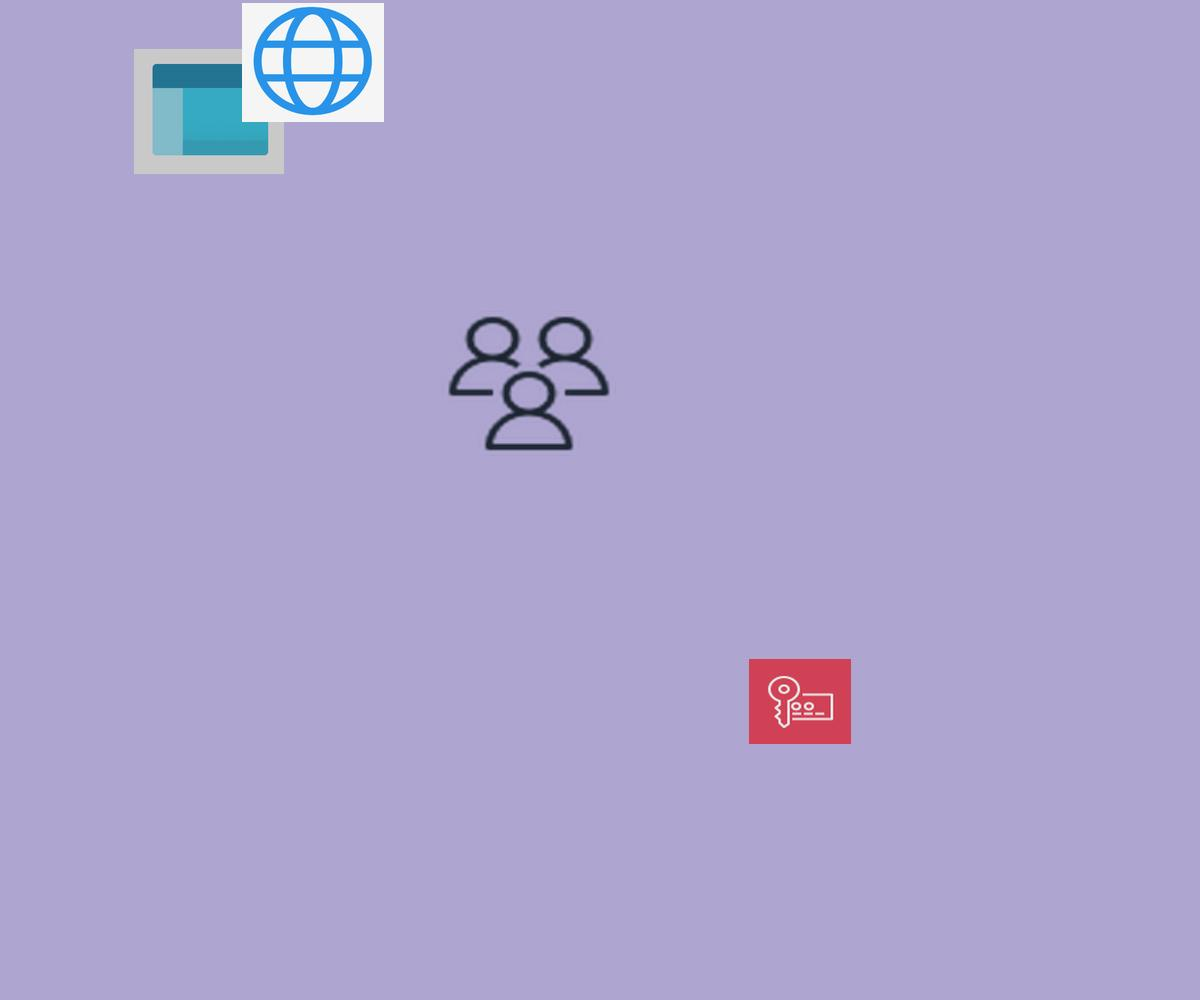AWS-Key-Management-Service: (749, 659, 851, 744)
AWS-Res_Users: (442, 311, 616, 456)
Azure_http: (242, 3, 384, 122)
Azure_management-portal: (134, 49, 284, 174)
